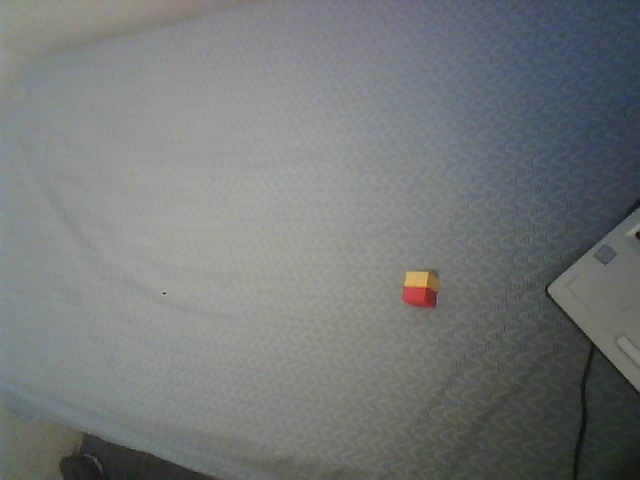lego: (401, 270, 440, 308)
